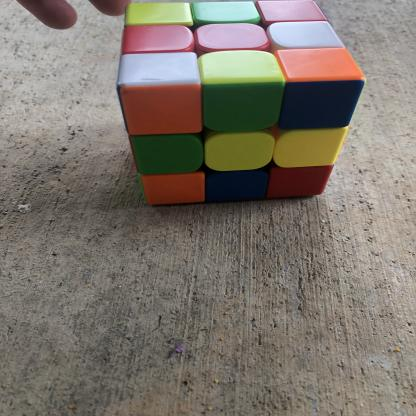UnsolvedCube: (114, 0, 370, 223)
